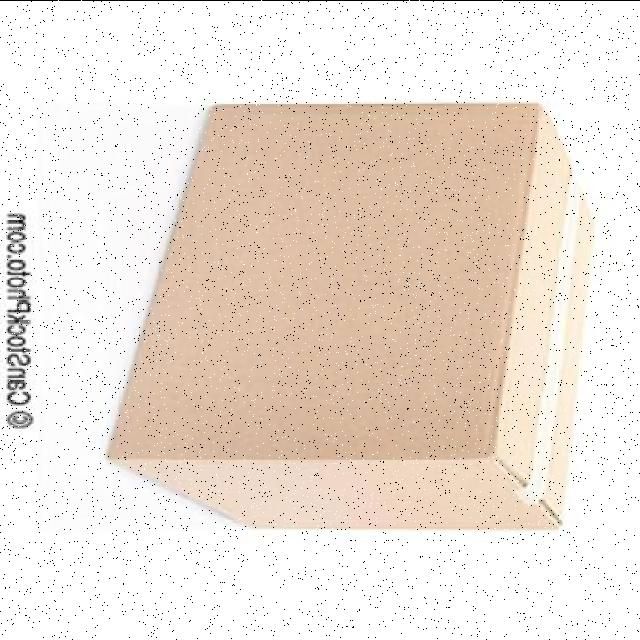normal: (111, 83, 600, 535)
